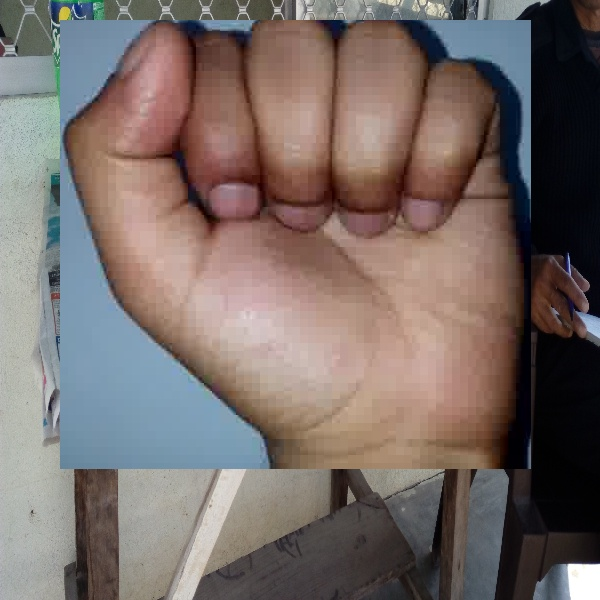A: (60, 20, 531, 469)
